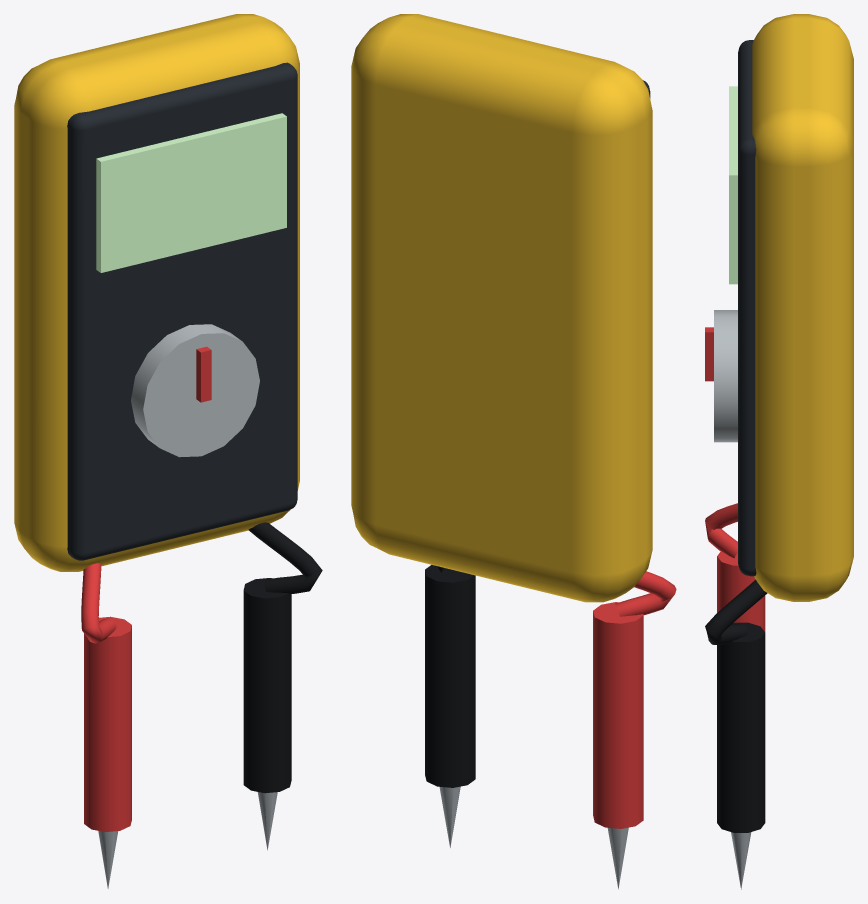
File: multimeter.glb
The picture shows the model from 3 angles, left to right: view 1: azimuth 30°, elevation 25°; view 2: azimuth 150°, elevation 25°; view 3: azimuth 270°, elevation 25°; orthographic projection. The views are drawn at different scales.
Visible parts, largest first — view 1: multimeter-dark-polymer, multimeter-meter-yellow, meter-lcd, meter_dial-panel-grey, probe_black-rubber, probe_red-signal-red, multimeter-rubber, multimeter-signal-red, meter_dial-signal-red, probe_red-aluminium, probe_black-aluminium; view 2: multimeter-meter-yellow, probe_red-signal-red, probe_black-rubber, multimeter-signal-red, probe_red-aluminium, probe_black-aluminium; view 3: multimeter-meter-yellow, probe_black-rubber, multimeter-dark-polymer, meter_dial-panel-grey, probe_red-signal-red, meter-lcd, multimeter-rubber, multimeter-signal-red, probe_black-aluminium, meter_dial-signal-red.
Boxes of the visible parts, <box> form: multimeter-dark-polymer: <box>67,62,297,560</box>; multimeter-meter-yellow: <box>14,14,299,571</box>; meter-lcd: <box>96,113,286,272</box>; meter_dial-panel-grey: <box>131,324,259,457</box>; probe_black-rubber: <box>243,578,291,793</box>; probe_red-signal-red: <box>84,616,131,831</box>; multimeter-rubber: <box>248,522,322,594</box>; multimeter-signal-red: <box>81,563,116,643</box>; meter_dial-signal-red: <box>196,346,211,402</box>; probe_red-aluminium: <box>98,831,118,888</box>; probe_black-aluminium: <box>257,792,277,850</box>; multimeter-meter-yellow: <box>351,14,652,602</box>; probe_red-signal-red: <box>593,602,643,828</box>; probe_black-rubber: <box>425,565,475,787</box>; multimeter-signal-red: <box>615,571,676,616</box>; probe_red-aluminium: <box>607,827,628,889</box>; probe_black-aluminium: <box>439,786,460,847</box>; multimeter-meter-yellow: <box>752,14,853,601</box>; probe_black-rubber: <box>717,622,765,832</box>; multimeter-dark-polymer: <box>738,40,756,576</box>; meter_dial-panel-grey: <box>714,310,737,442</box>; probe_red-signal-red: <box>717,551,765,631</box>; meter-lcd: <box>729,86,737,284</box>; multimeter-rubber: <box>705,580,767,644</box>; multimeter-signal-red: <box>705,503,737,558</box>; probe_black-aluminium: <box>731,832,751,889</box>; meter_dial-signal-red: <box>705,327,713,381</box>.
Size of the model in its own units: 0.1 by 0.2895 by 0.0495.
